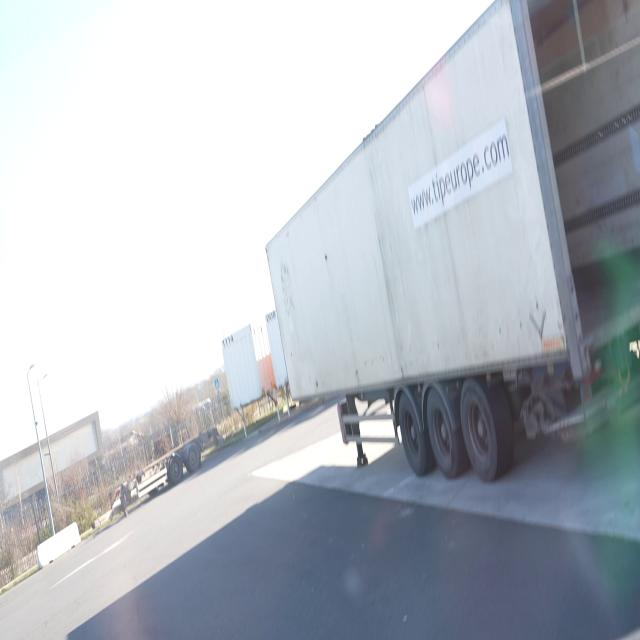Code: (216, 327, 238, 357), (262, 302, 280, 326)
